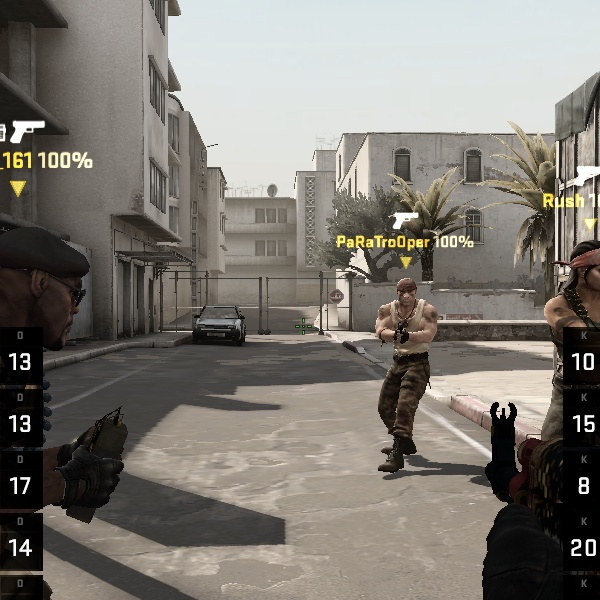t_body: (374, 279, 441, 466)
t_head: (394, 278, 421, 310)
